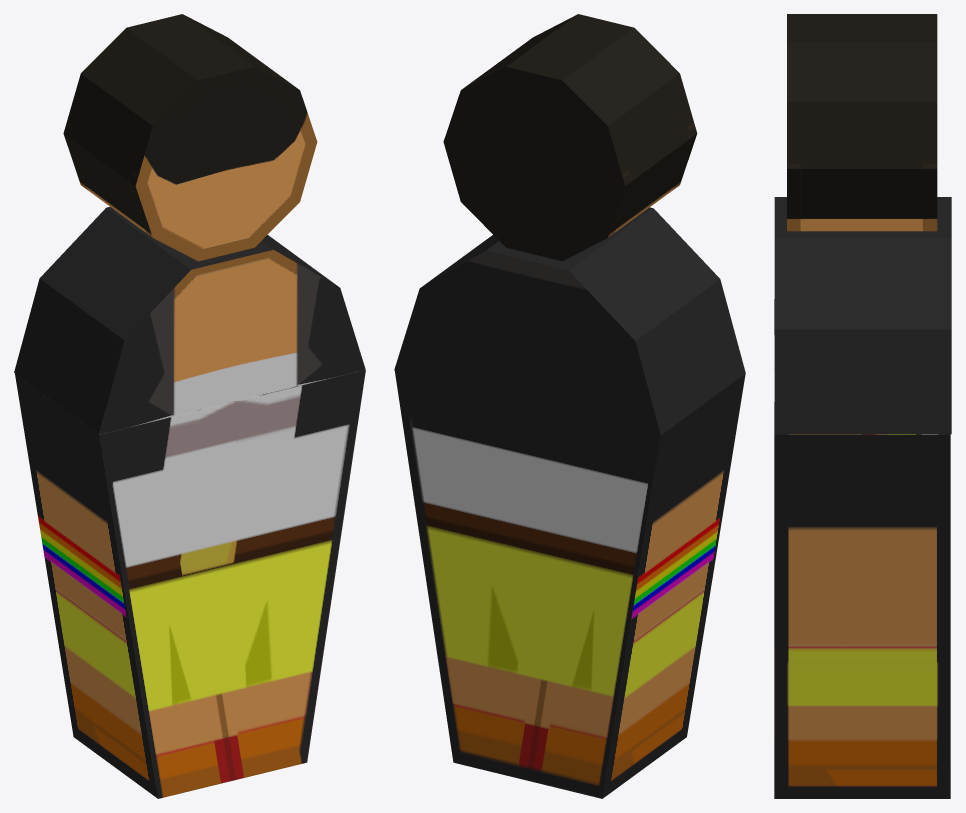
File: human_reverseTriangle.fbx
The picture shows the model from 3 angles, left to right: view 1: azimuth 30°, elevation 25°; view 2: azimuth 150°, elevation 25°; view 3: azimuth 270°, elevation 25°; orthographic projection. The views are drawn at different scales.
Parts seen in each view (by area): view 1: polySurface2, pCylinder2; view 2: polySurface2, pCylinder2; view 3: polySurface2, pCylinder2.
Boxes of the visible parts, box(x1,y1,x2,y2) form: polySurface2: box(14, 207, 365, 798); pCylinder2: box(63, 14, 317, 261); polySurface2: box(394, 207, 745, 798); pCylinder2: box(443, 14, 697, 261); polySurface2: box(774, 197, 951, 798); pCylinder2: box(787, 14, 937, 231).
Bounding box in the file's own units: 1.78 × 4.47 × 0.9812.
